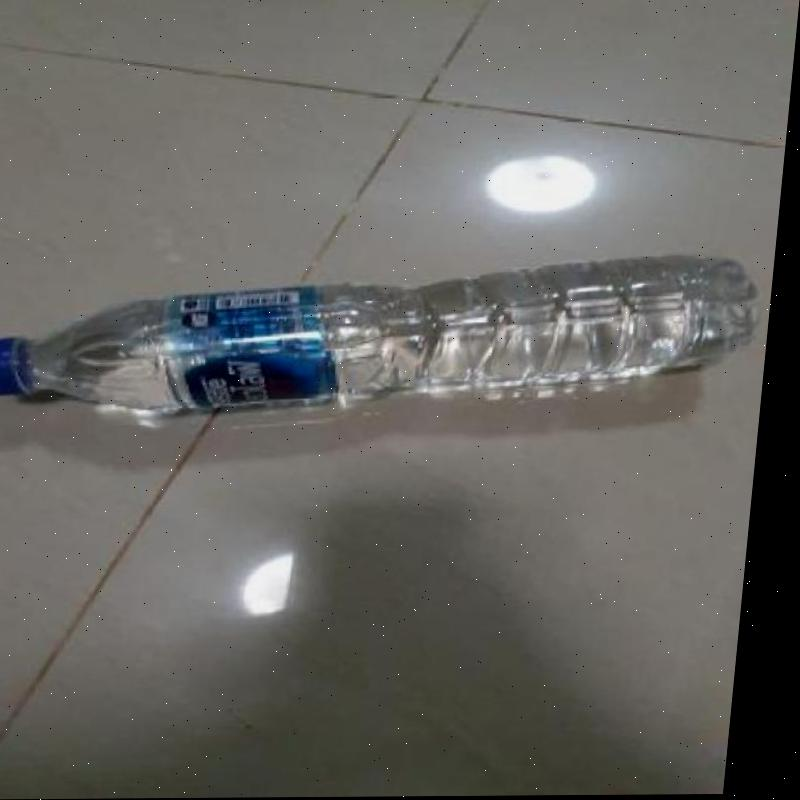botella: (0, 255, 770, 415)
